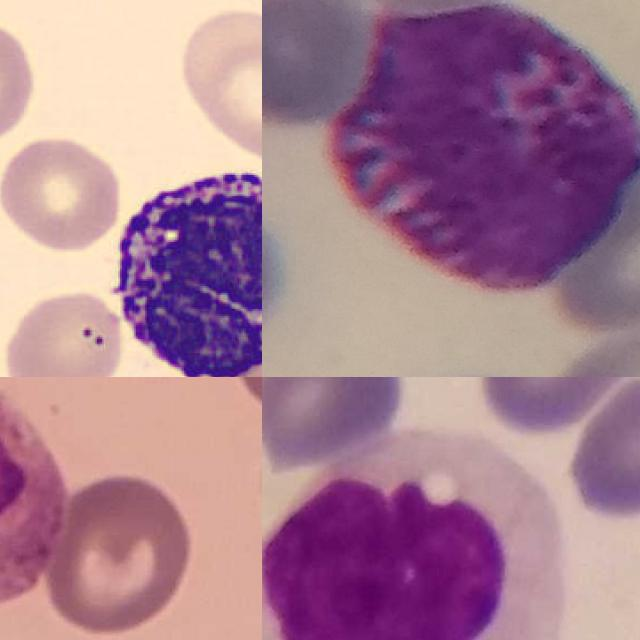Basophil: (327, 0, 640, 298), (100, 152, 262, 377)
Monocyte: (262, 432, 570, 640)
Neutrophil: (0, 377, 67, 616)
RBC: (0, 130, 125, 254), (175, 2, 262, 166), (0, 286, 127, 377), (0, 9, 40, 153)
